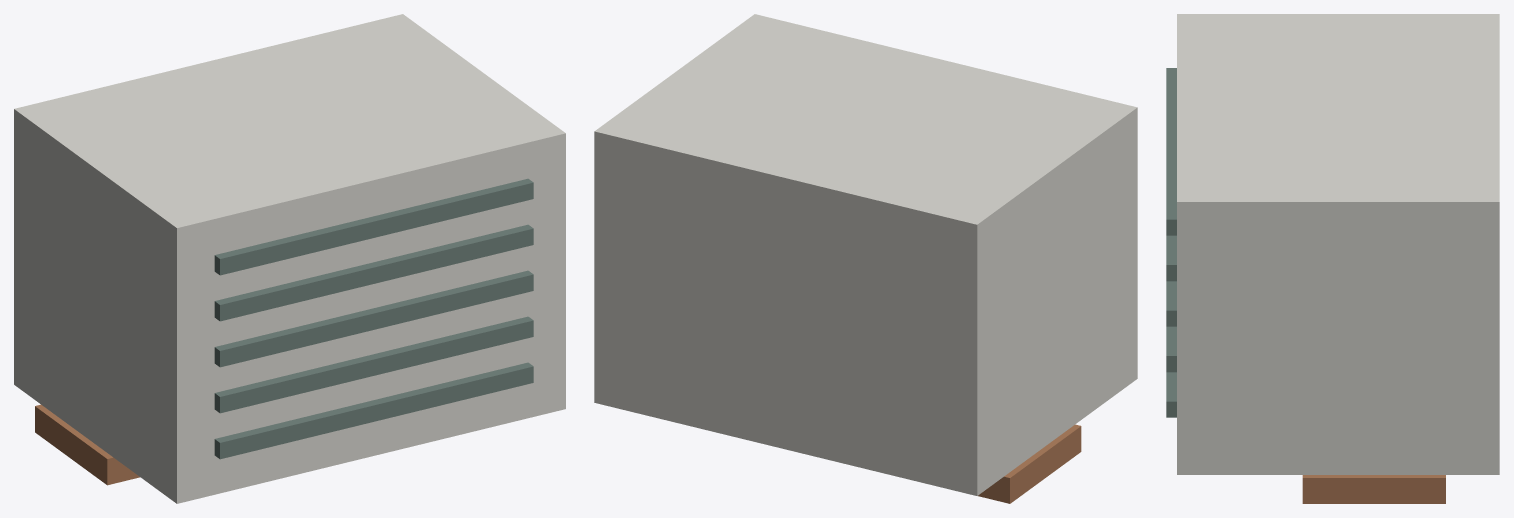
File: ac_window.glb
3 views of the same model, side by side, from view 1: azimuth 30°, elevation 25°; view 2: azimuth 150°, elevation 25°; view 3: azimuth 270°, elevation 25° (orthographic).
Parts seen in each view (by area): view 1: ac_window; view 2: ac_window; view 3: ac_window.
Part boxes in pixels (x1,y1,x2,y2): ac_window: (14, 14, 565, 503); ac_window: (594, 14, 1137, 503); ac_window: (1166, 14, 1499, 503).
Size of the model in its own units: 0.64 by 0.46 by 0.465.
